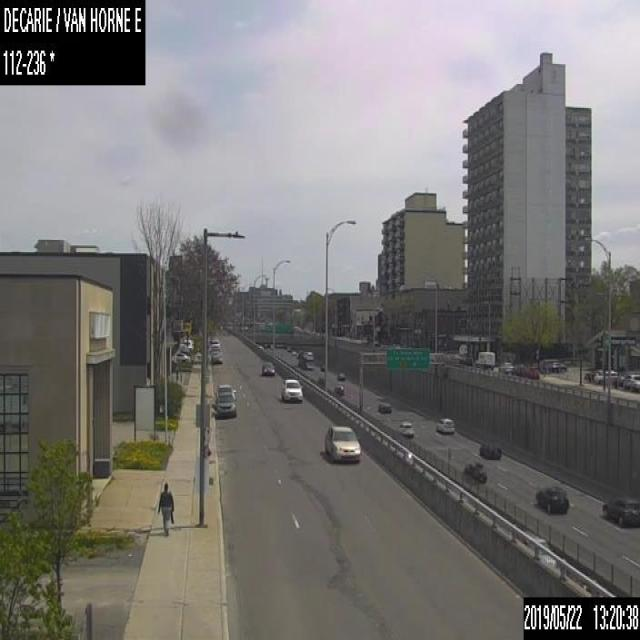pedestrian: (156, 481, 174, 536)
vehicle: (324, 424, 361, 460), (602, 496, 639, 528), (535, 485, 568, 512), (280, 376, 302, 403), (213, 396, 236, 417), (479, 439, 502, 460), (463, 460, 486, 481), (472, 349, 494, 368), (213, 383, 236, 399), (434, 416, 454, 433), (297, 350, 312, 369), (398, 420, 414, 436), (593, 369, 609, 384), (261, 360, 275, 376), (510, 363, 526, 376), (376, 399, 391, 412), (624, 373, 639, 386), (171, 352, 190, 362), (497, 361, 512, 373), (525, 365, 538, 378), (210, 351, 222, 363), (552, 361, 566, 371), (334, 382, 344, 393), (209, 339, 219, 350), (182, 339, 192, 349), (316, 376, 324, 387), (337, 372, 345, 380), (318, 362, 325, 370)
